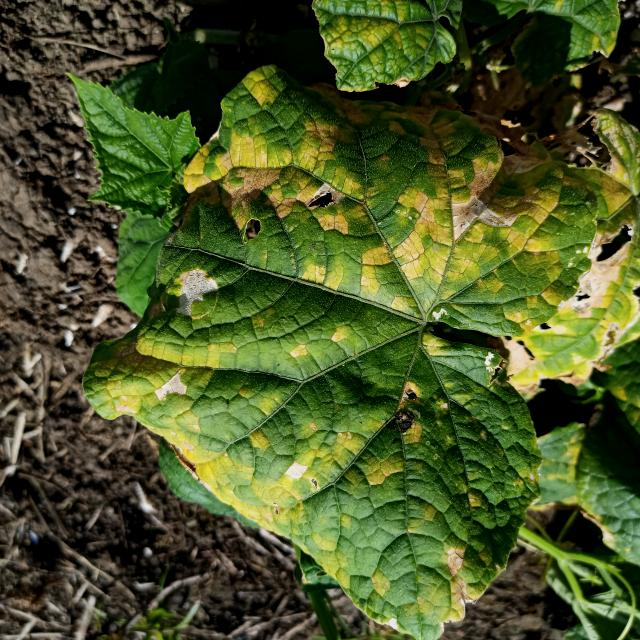disease_cucumber: (121, 54, 608, 612)
